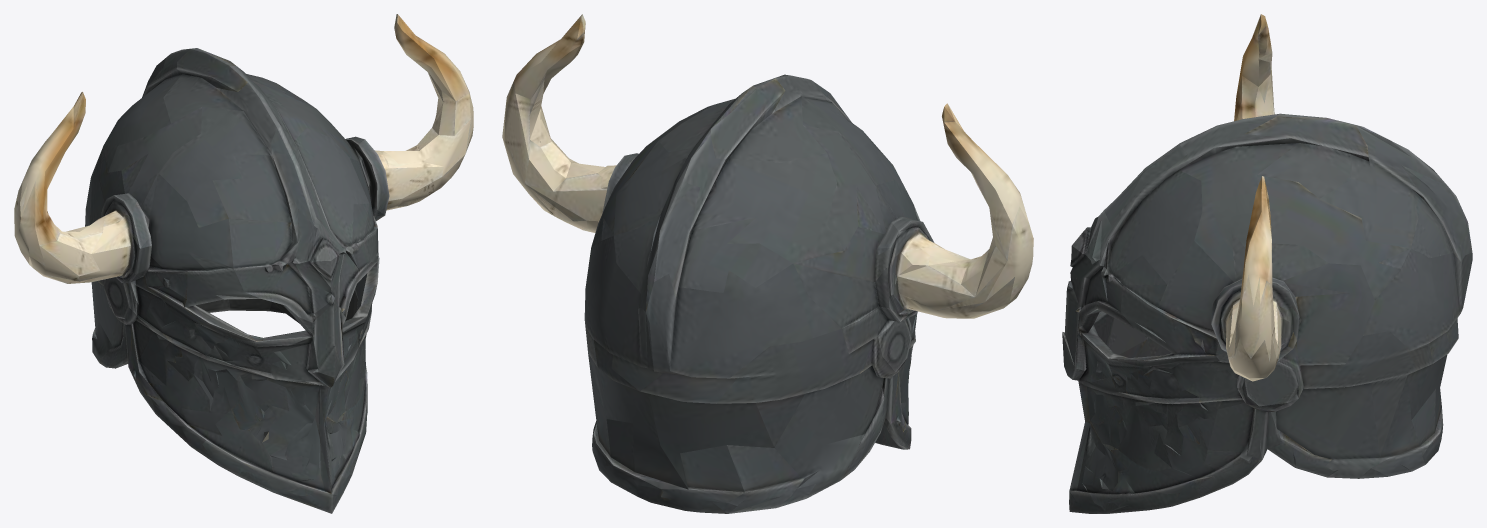
The model's file is viking.glb.
3 renders of one model, left to right at view 1: azimuth 30°, elevation 25°; view 2: azimuth 150°, elevation 25°; view 3: azimuth 270°, elevation 25°, orthographic. The views are drawn at different scales.
Bounding box in the file's own units: 1.9 × 1.58 × 1.41.
Materials: 1 (1 with a texture image).
